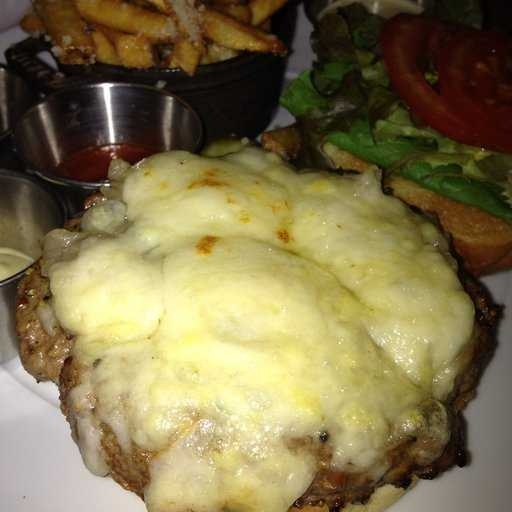hamburger: (16, 142, 477, 497)
